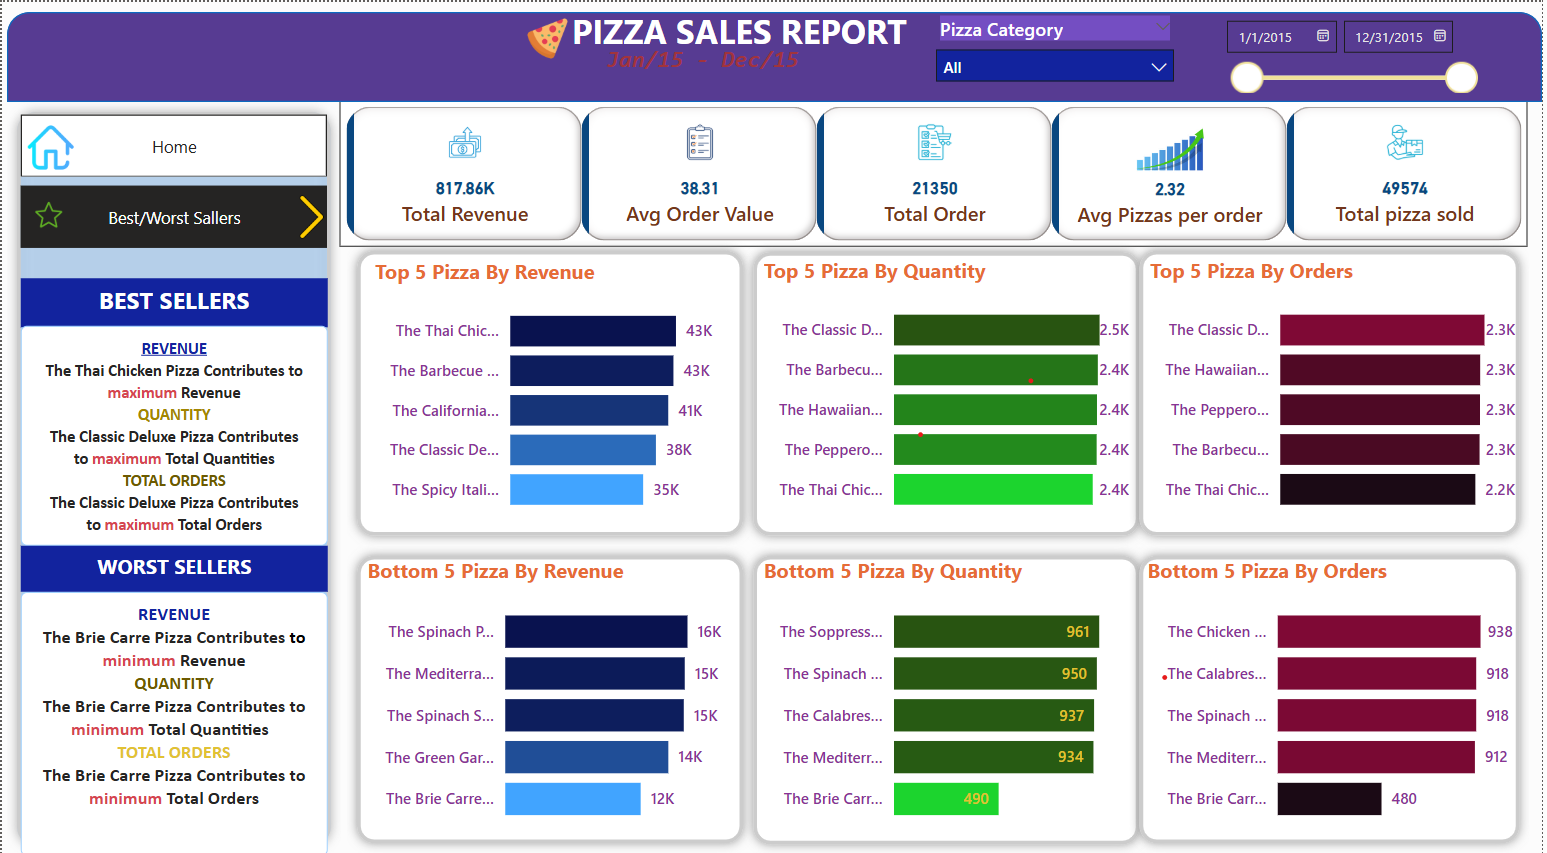

This screenshot's page, from the dashboard's own definition file:
{"tool":"powerbi","page":{"name":"Best/Worst Sallers","canvas":[1232,683],"ordinal":1},"visuals":[{"type":"shape","box":[4,80,267,603],"z":0},{"type":"textbox","box":[15,221,245,39],"z":1000},{"type":"cardVisual","fields":{"Data":["pizza_db pizzasales.Total Revenue","pizza_db pizzasales.Avg Order Value","pizza_db pizzasales.Total Order","pizza_db pizzasales.Avg Pizzas per order","pizza_db pizzasales.Total pizza sold"]},"box":[270,79,950,117],"z":2000},{"type":"shape","box":[4,8,1228,72],"z":3000},{"type":"textbox","box":[439,0,301,48],"z":4000},{"type":"textbox","box":[429,30,262,50],"z":5000},{"type":"image","box":[414,2,44,55],"z":6000},{"type":"shape","box":[276,191,325,244],"z":7000},{"type":"textbox","box":[15,259,245,176],"z":8000},{"type":"textbox","box":[15,435,245,37],"z":9000},{"type":"textbox","box":[15,472,245,211],"z":10000},{"type":"slicer","fields":{"Values":["pizza_db pizzasales.pizza_category"]},"box":[736,6,208,59],"z":11000},{"type":"slicer","fields":{"Values":["pizza_db pizzasales.order_date"]},"box":[964,3,222,70],"z":12000},{"type":"shape","box":[593,192,325,243],"z":13000},{"type":"shape","box":[902,191,320,244],"z":14000},{"type":"shape","box":[276,435,325,246],"z":15000},{"type":"shape","box":[593,435,325,247],"z":16000},{"type":"shape","box":[902,435,320,246],"z":17000},{"type":"barChart","title":"Top 5 Pizza By Revenue","fields":{"Category":["pizza_db pizzasales.pizza_name"],"Y":["pizza_db pizzasales.Total Revenue"]},"box":[293,204,297,217],"z":18000},{"type":"barChart","title":"Bottom 5 Pizza By Revenue","fields":{"Category":["pizza_db pizzasales.pizza_name"],"Y":["pizza_db pizzasales.Total Revenue"]},"box":[287,443,303,227],"z":19000},{"type":"barChart","title":"Top 5 Pizza By Quantity","fields":{"Category":["pizza_db pizzasales.pizza_name"],"Y":["pizza_db pizzasales.Total pizza sold"]},"box":[604,203,302,218],"z":20000},{"type":"barChart","title":"Bottom 5 Pizza By Quantity","fields":{"Category":["pizza_db pizzasales.pizza_name"],"Y":["pizza_db pizzasales.Total pizza sold"]},"box":[604,443,302,227],"z":20001},{"type":"barChart","title":"Top 5 Pizza By Orders","fields":{"Category":["pizza_db pizzasales.pizza_name"],"Y":["pizza_db pizzasales.Total Order"]},"box":[913,203,302,218],"z":20002},{"type":"barChart","title":"Bottom 5 Pizza By Orders","fields":{"Category":["pizza_db pizzasales.pizza_name"],"Y":["pizza_db pizzasales.Total Order"]},"box":[911,443,302,227],"z":20003},{"type":"pageNavigator","box":[15,90,245,50],"z":20004},{"type":"pageNavigator","box":[15,147,245,50],"z":20005},{"type":"image","box":[225,150,45,44],"z":20006},{"type":"image","box":[15,90,47,53],"z":20007},{"type":"image","box":[21,149,32,42],"z":20008}]}

Visuals, with their boxes in screenshot pixels (x1, y1, x2, y2), scaled from the page's 1232x683 canvas onto the 1547x853 screenshot:
shape: <box>5,100,340,852</box>
textbox: <box>19,276,326,325</box>
cardVisual - pizza_db pizzasales.Total Revenue x pizza_db pizzasales.Avg Order Value: <box>339,99,1532,245</box>
shape: <box>5,10,1546,100</box>
textbox: <box>551,0,929,60</box>
textbox: <box>539,37,868,100</box>
image: <box>520,2,575,71</box>
shape: <box>347,239,755,543</box>
textbox: <box>19,323,326,543</box>
textbox: <box>19,543,326,589</box>
textbox: <box>19,589,326,852</box>
slicer - pizza_db pizzasales.pizza_category: <box>924,7,1185,81</box>
slicer - pizza_db pizzasales.order_date: <box>1210,4,1489,91</box>
shape: <box>745,240,1153,543</box>
shape: <box>1133,239,1534,543</box>
shape: <box>347,543,755,851</box>
shape: <box>745,543,1153,852</box>
shape: <box>1133,543,1534,851</box>
"Top 5 Pizza By Revenue" barChart: <box>368,255,741,526</box>
"Bottom 5 Pizza By Revenue" barChart: <box>360,553,741,837</box>
"Top 5 Pizza By Quantity" barChart: <box>758,254,1138,526</box>
"Bottom 5 Pizza By Quantity" barChart: <box>758,553,1138,837</box>
"Top 5 Pizza By Orders" barChart: <box>1146,254,1526,526</box>
"Bottom 5 Pizza By Orders" barChart: <box>1144,553,1523,837</box>
pageNavigator: <box>19,112,326,175</box>
pageNavigator: <box>19,184,326,246</box>
image: <box>283,187,339,242</box>
image: <box>19,112,78,179</box>
image: <box>26,186,67,239</box>
